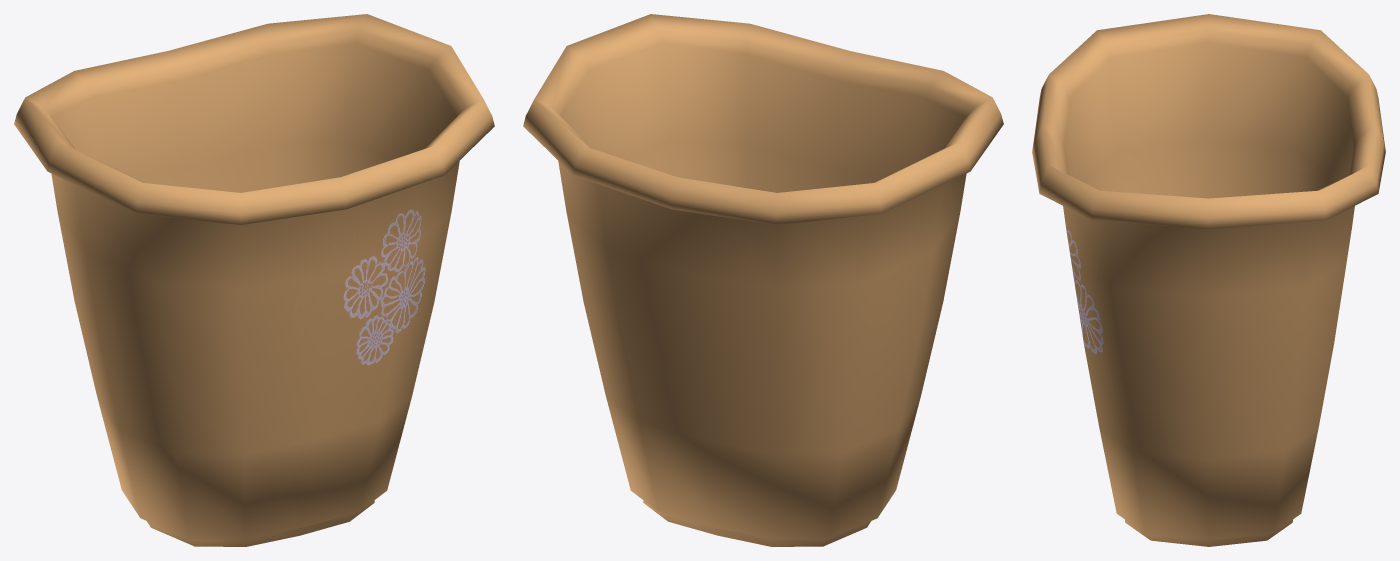
Rendered from trashCan.glb.
3 renders of one model, left to right at view 1: azimuth 30°, elevation 25°; view 2: azimuth 150°, elevation 25°; view 3: azimuth 270°, elevation 25°, orthographic. The views are drawn at different scales.
Parts seen in each view (by area): view 1: Cube; view 2: Cube; view 3: Cube.
Boxes of the visible parts, x1,y1,x2,y2 form: Cube: (14,14,494,546); Cube: (523,14,1003,546); Cube: (1032,14,1385,546).
Size of the model in its own units: 2.45 by 2.31 by 1.89.
Materials: 1 (1 with a texture image).
